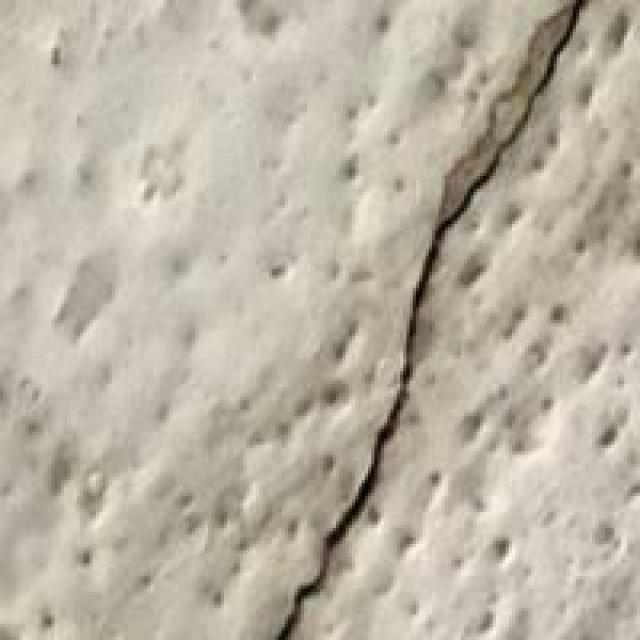crack: (234, 0, 630, 637)
